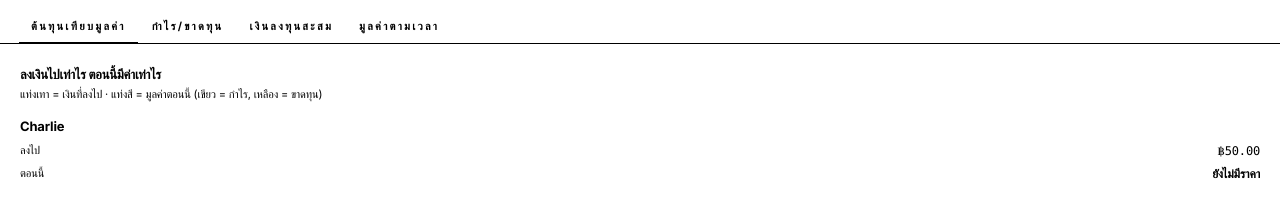
Test: CostVsValue gain tab › nothing priced: a message instead of an empty chart
The image size is (1280, 199).
Click the tab "กำไร/ขาดทุน". click: (188, 28)
box: [140,12,235,44]
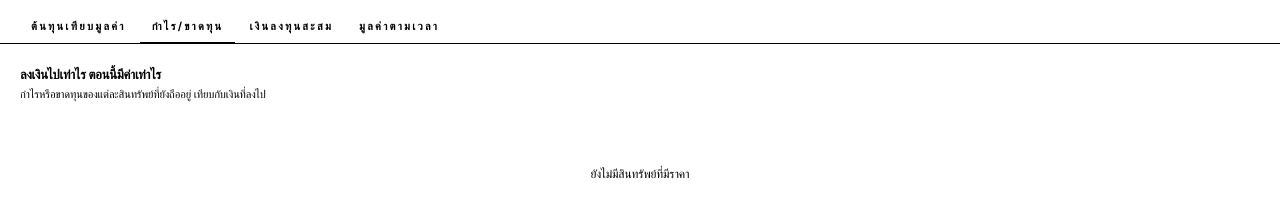
Result: the text "ยังไม่มีสินทรัพย์ที่มีราคา" is shown at [591,166,689,182]
